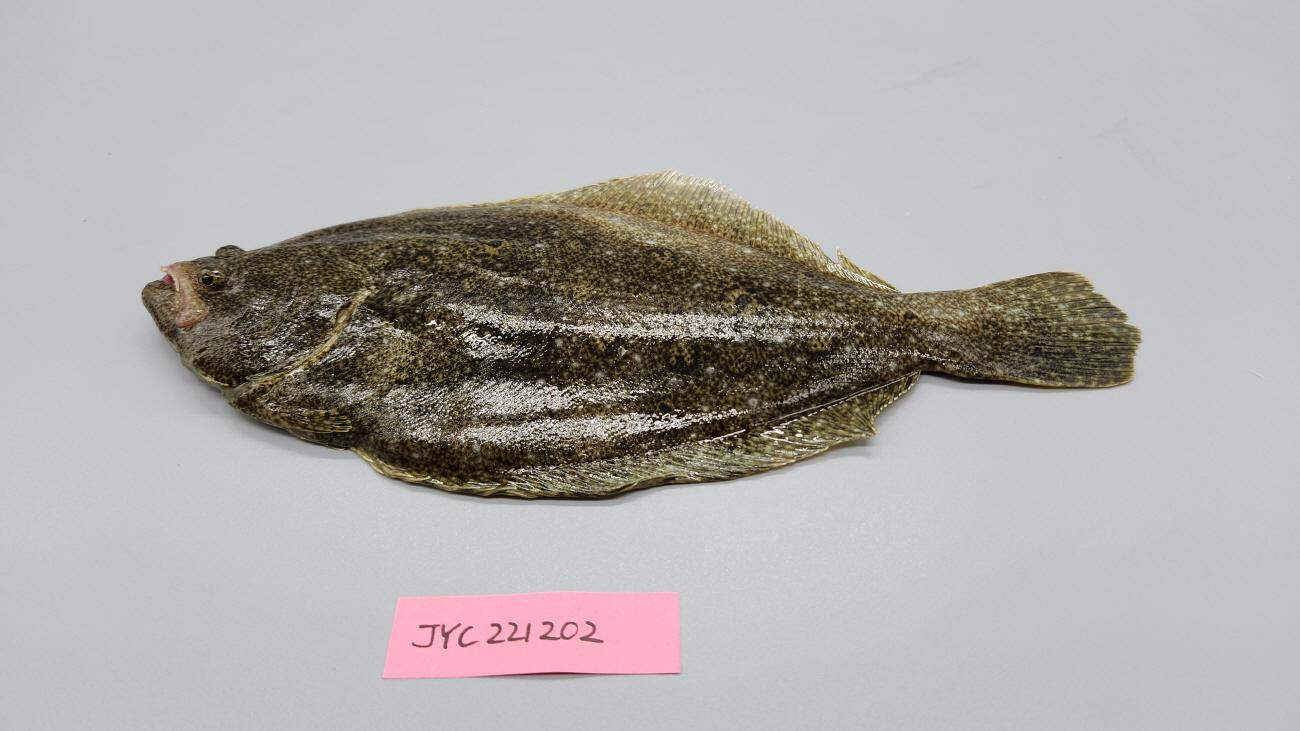MAOUY: (142, 168, 1143, 501)
